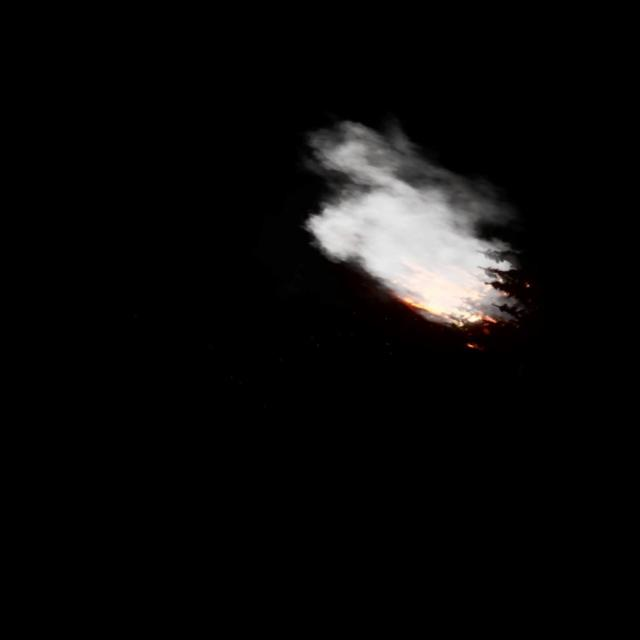fire: (386, 252, 510, 335)
smoke: (270, 111, 534, 318)
